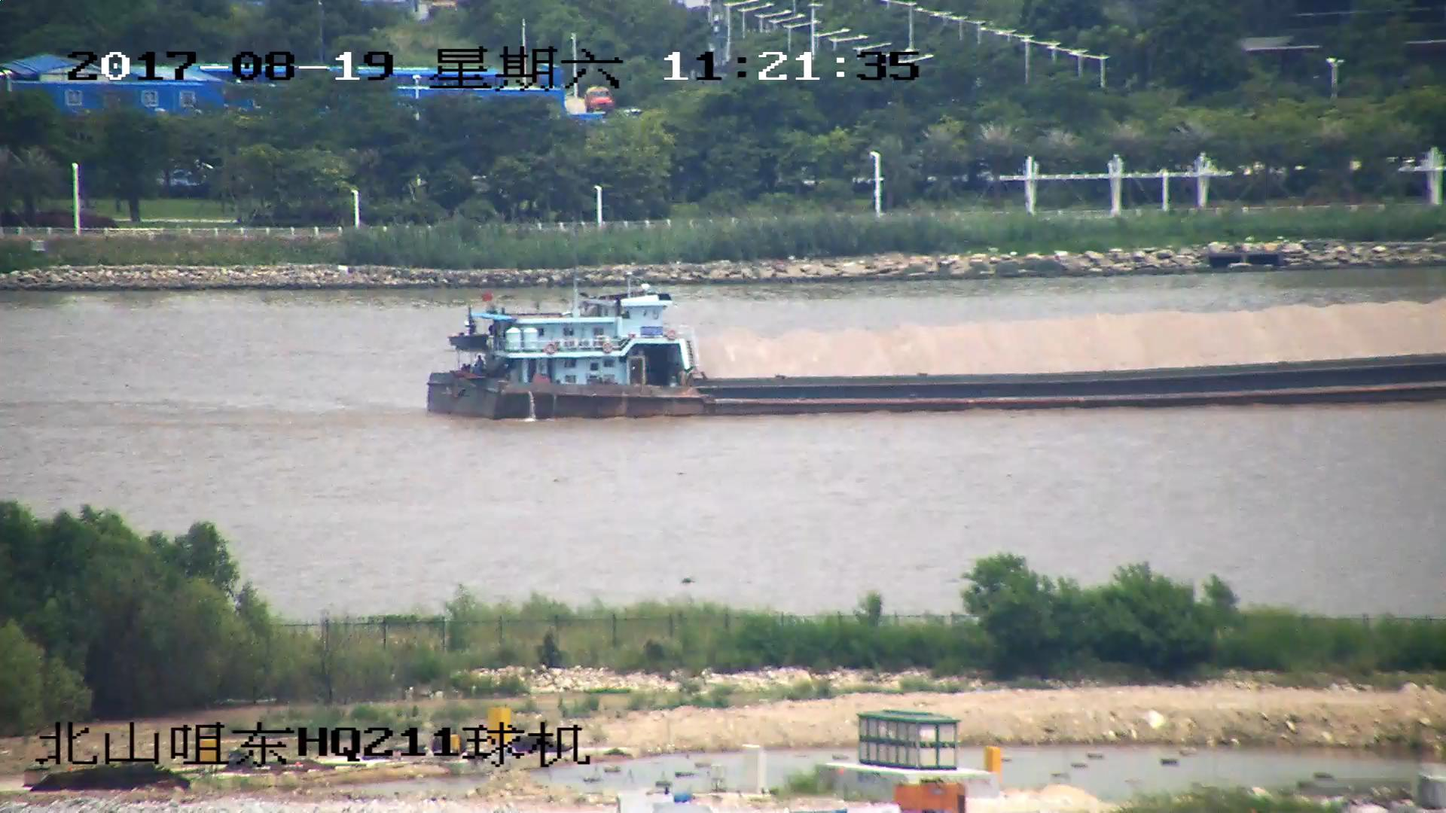ore carrier: (423, 285, 1445, 419)
